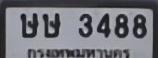3: (77, 13, 92, 37)
4: (96, 12, 109, 37)
8: (132, 13, 146, 37), (114, 13, 127, 37)
A39: (18, 12, 38, 37), (41, 12, 60, 37)
BKK: (26, 47, 131, 58)
